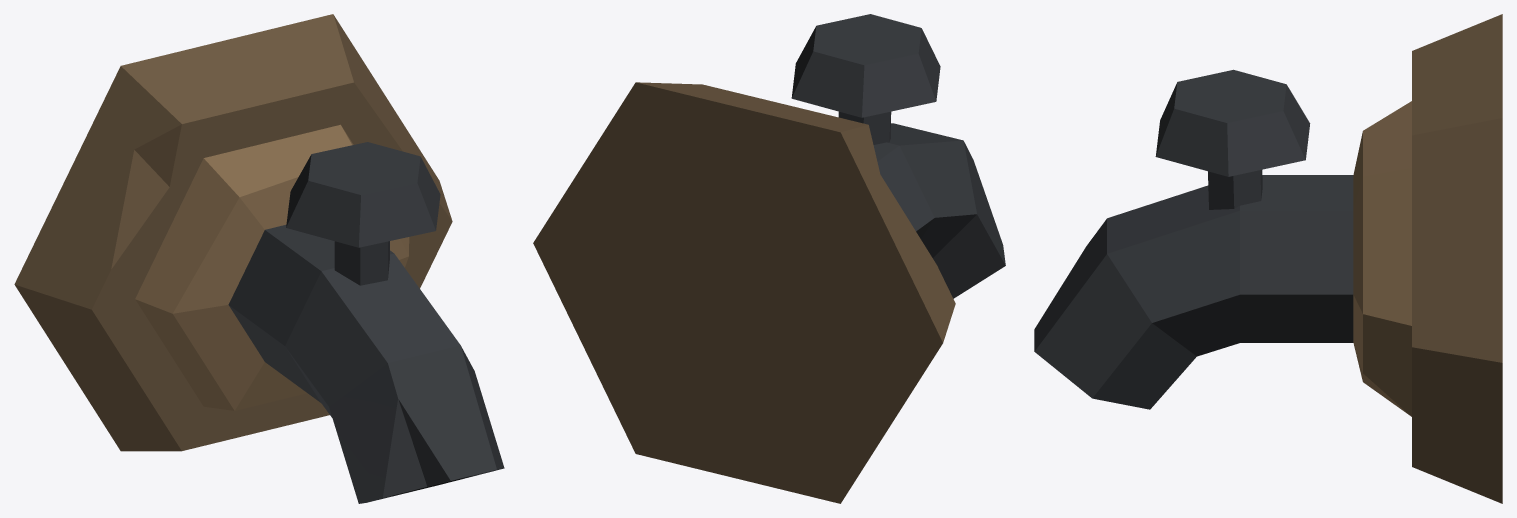
Rendered from SM_Prop_Barrel_Tap_01.fbx.
The picture shows the model from 3 angles, left to right: view 1: azimuth 30°, elevation 25°; view 2: azimuth 150°, elevation 25°; view 3: azimuth 270°, elevation 25°; orthographic projection. The views are drawn at different scales.
Parts seen in each view (by area): view 1: SM_Prop_Barrel_Tap_01; view 2: SM_Prop_Barrel_Tap_01; view 3: SM_Prop_Barrel_Tap_01.
Part boxes in pixels (x1,y1,x2,y2): SM_Prop_Barrel_Tap_01: (14,14,504,503); SM_Prop_Barrel_Tap_01: (533,14,1005,503); SM_Prop_Barrel_Tap_01: (1034,14,1502,503).
Bounding box in the file's own units: 38.56 × 33.39 × 36.69.
